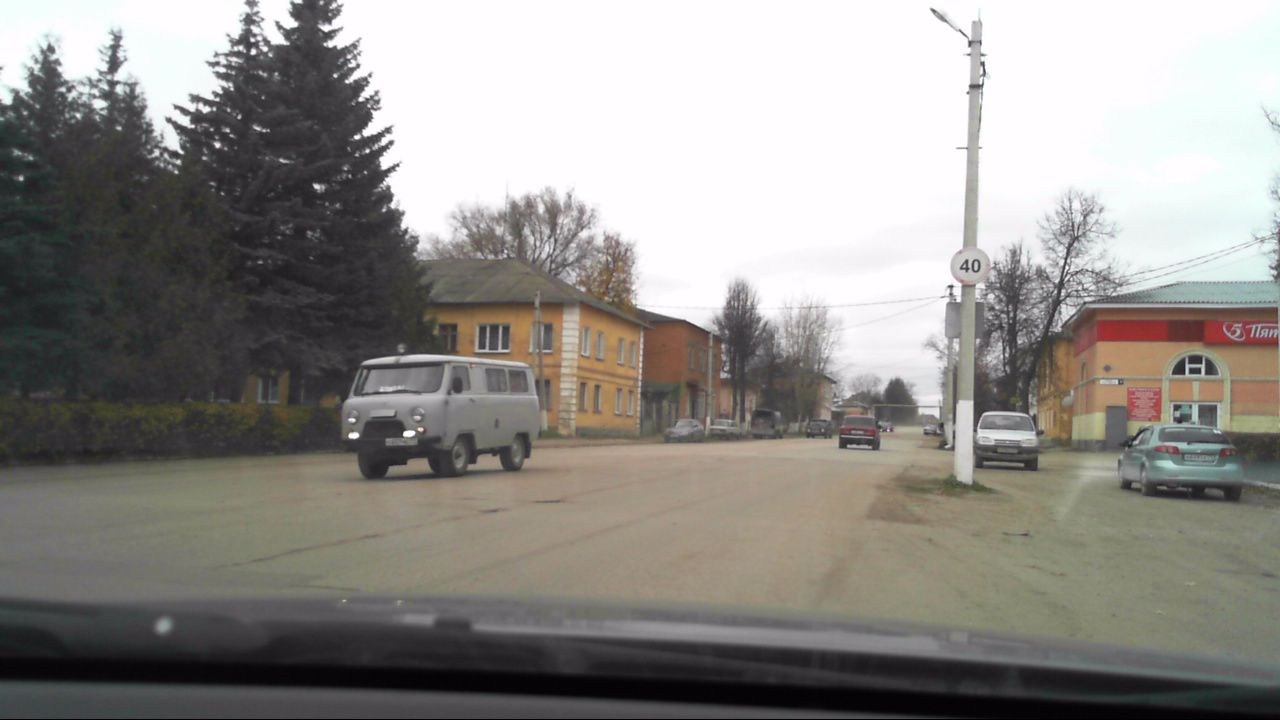speed_warning_40: (950, 247, 990, 287)
